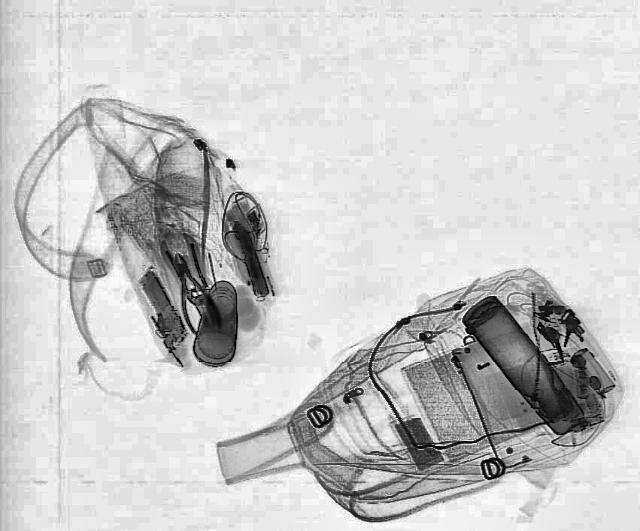Pliers: (158, 250, 226, 334), (162, 242, 218, 310)
